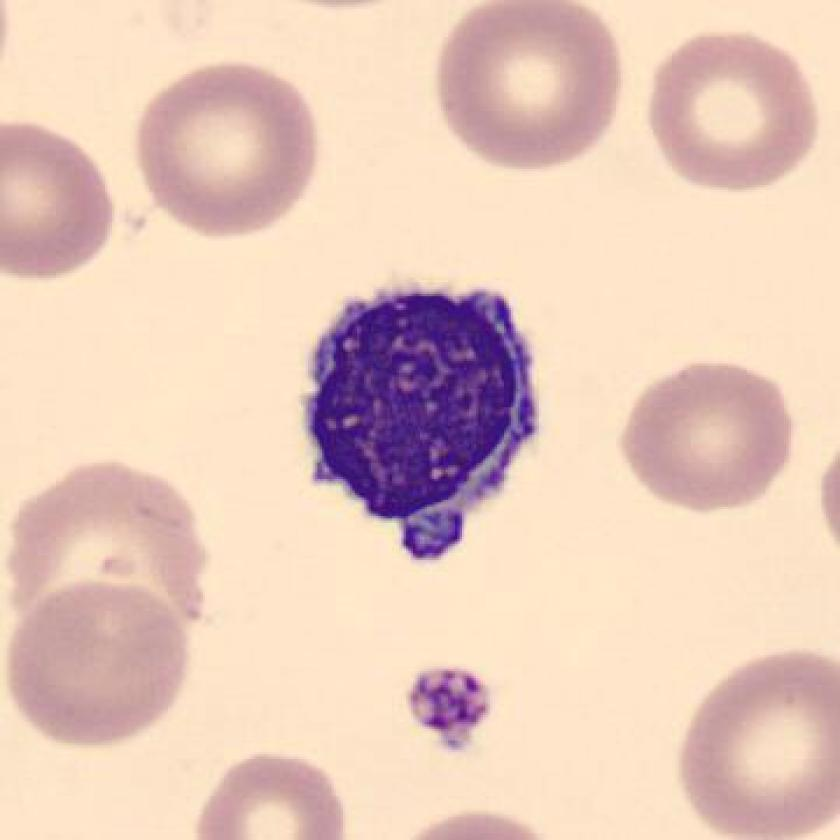lymphocyte: (288, 269, 549, 568)
